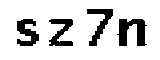7: (82, 6, 112, 49)
n: (114, 18, 151, 50)
s: (15, 17, 38, 50)
z: (44, 16, 75, 48)
